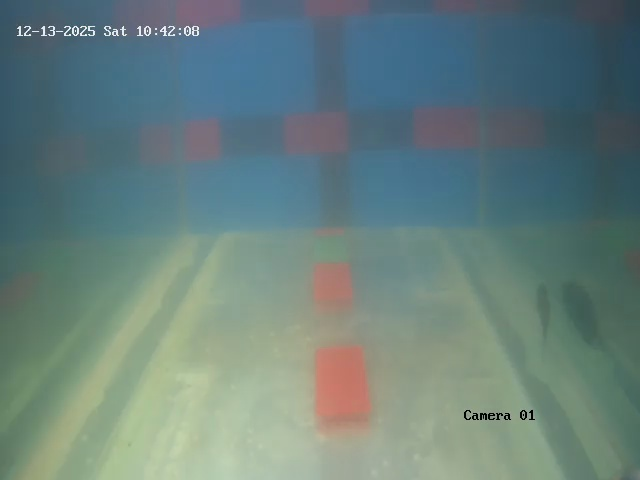fish: (525, 278, 563, 346)
